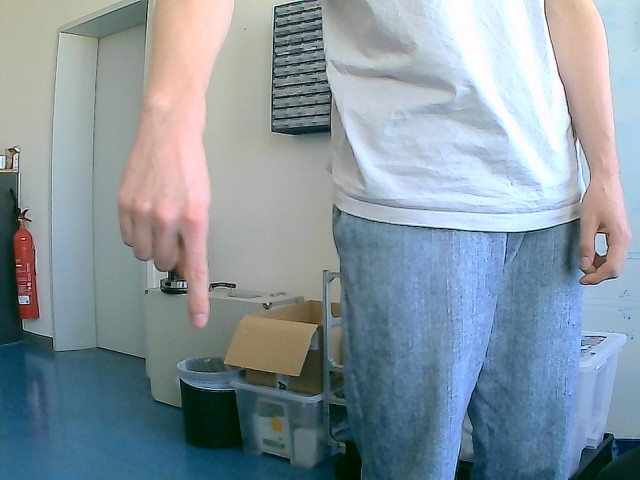down: (116, 103, 213, 329)
no_gesture: (574, 181, 635, 286)
